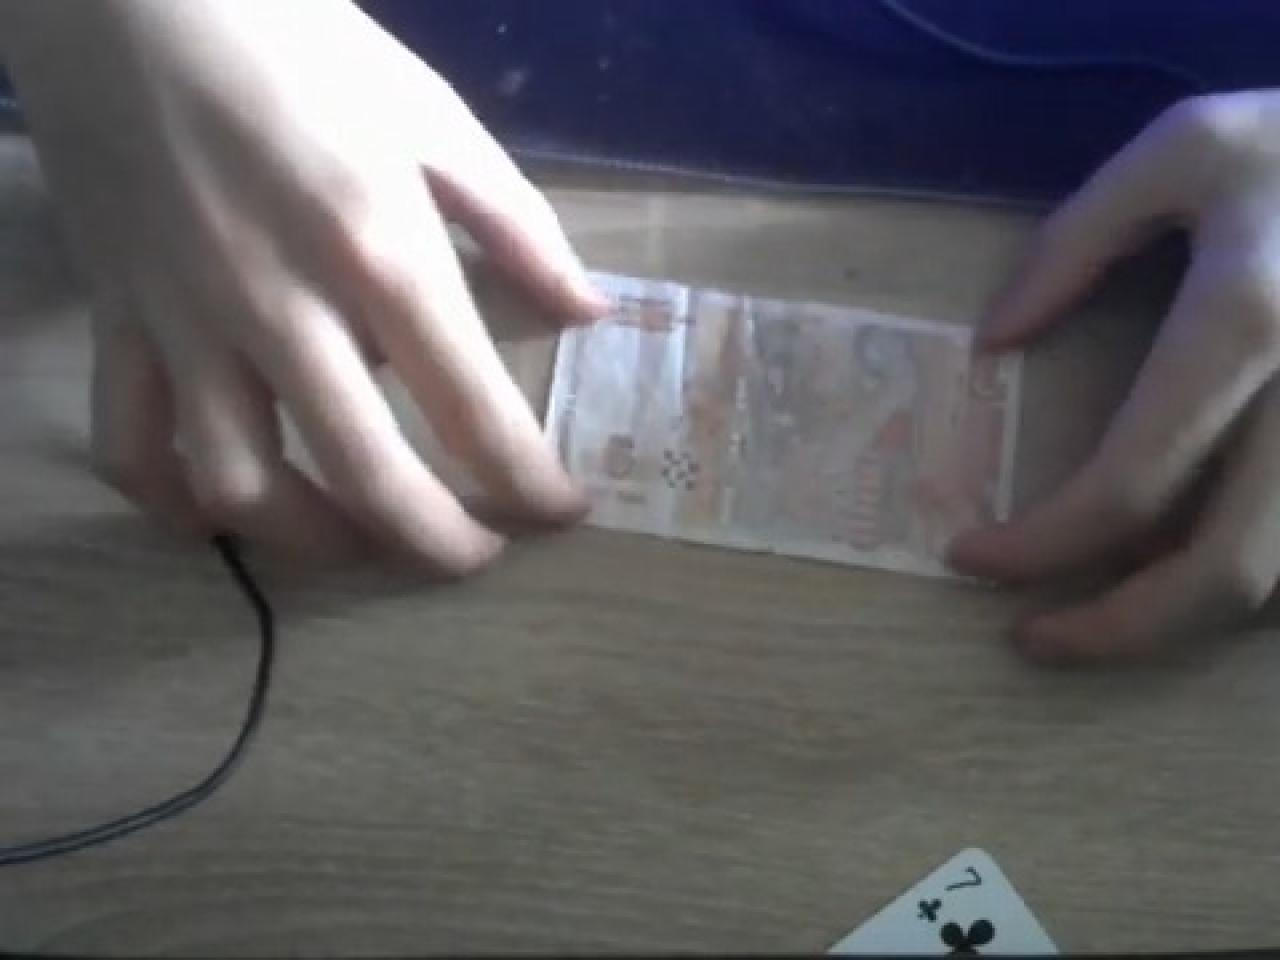5leva: (546, 272, 1027, 579)
